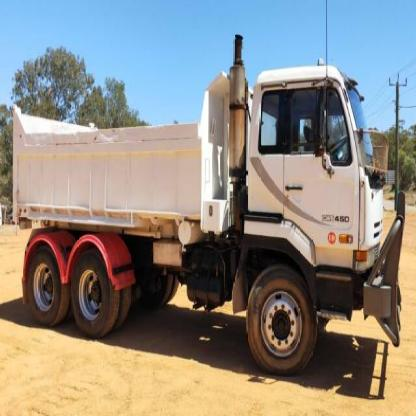dump_truck: (7, 40, 408, 387)
